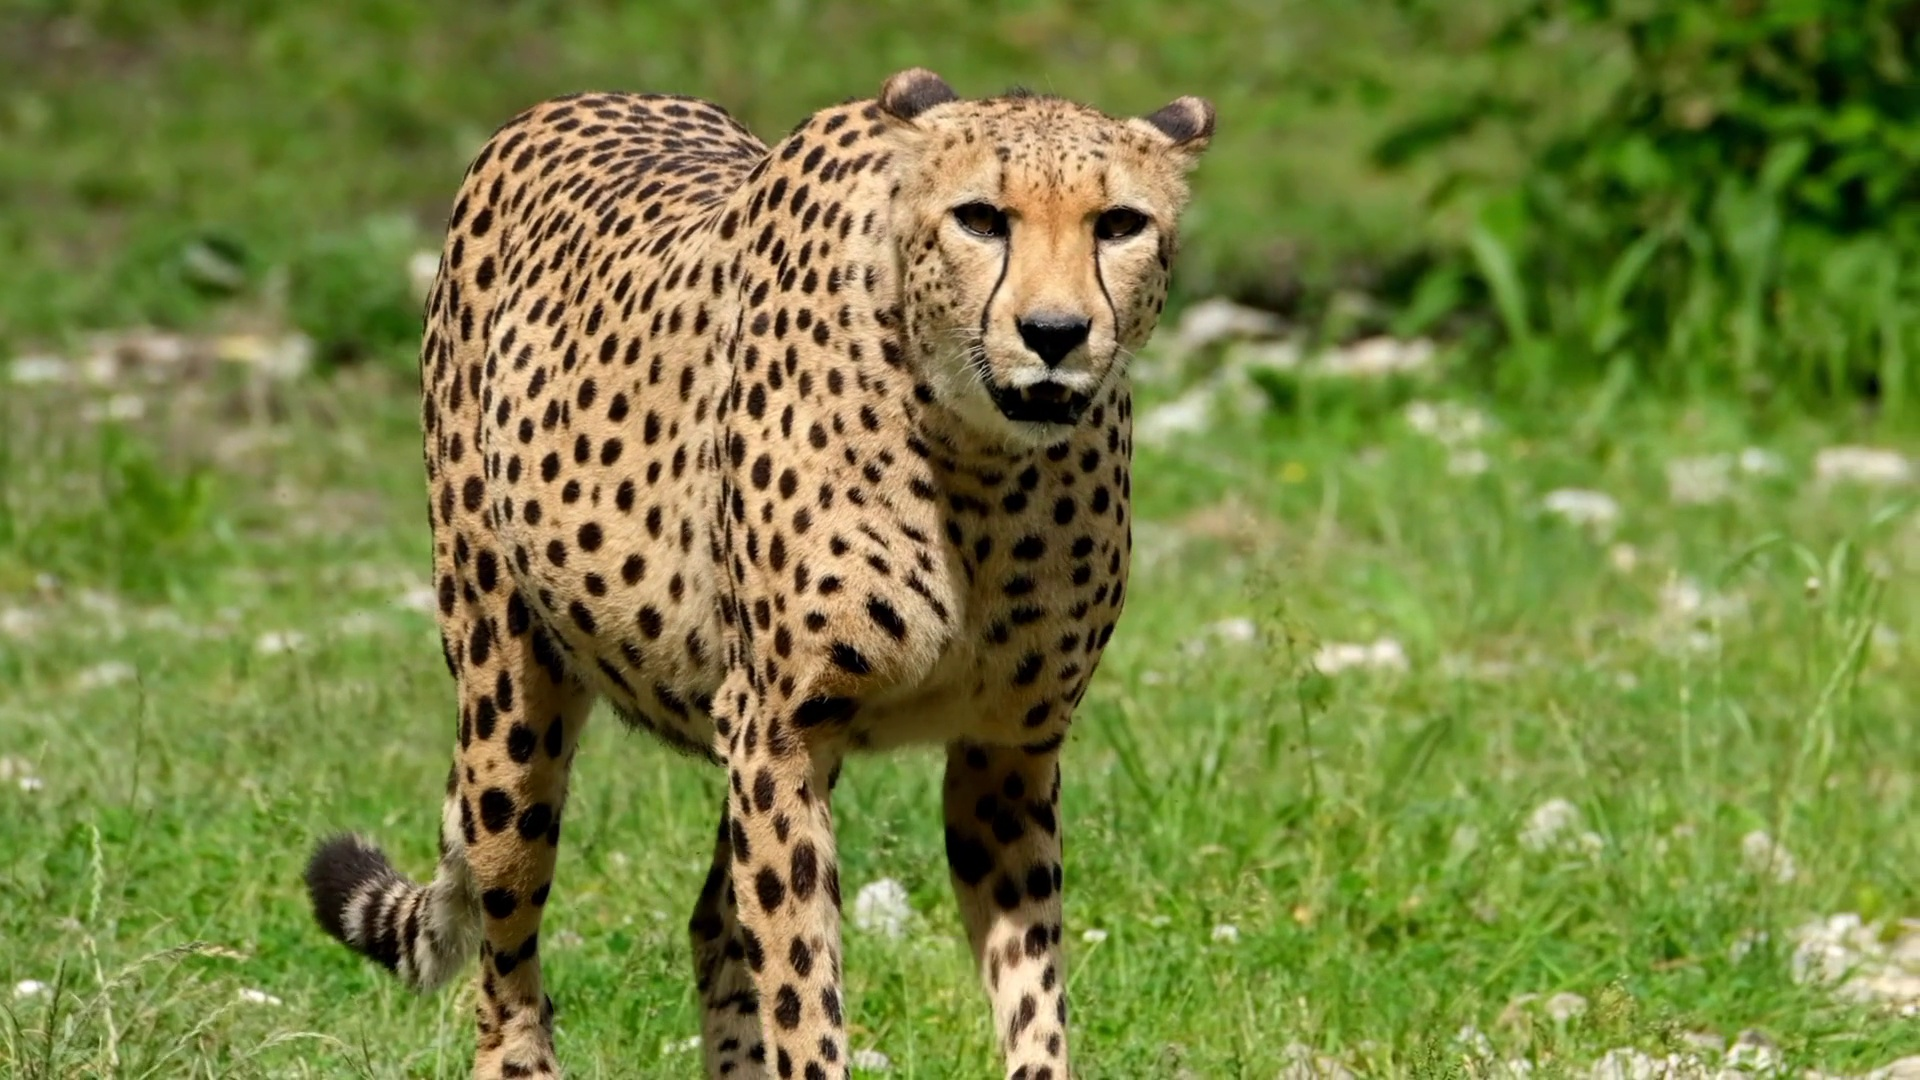Cheetah: (294, 54, 1224, 1080)
